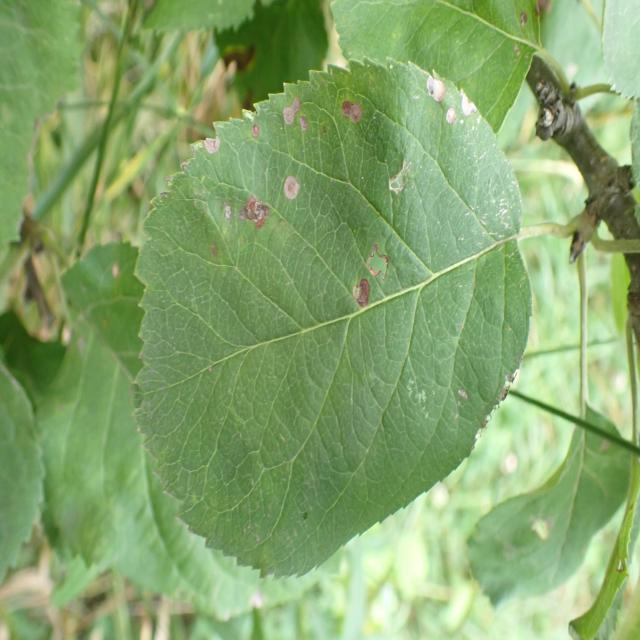Black Rot: (334, 244, 406, 314), (419, 71, 485, 147), (265, 82, 315, 138), (222, 189, 274, 233), (197, 114, 228, 171), (336, 98, 374, 142), (277, 168, 304, 213), (248, 111, 271, 148)
